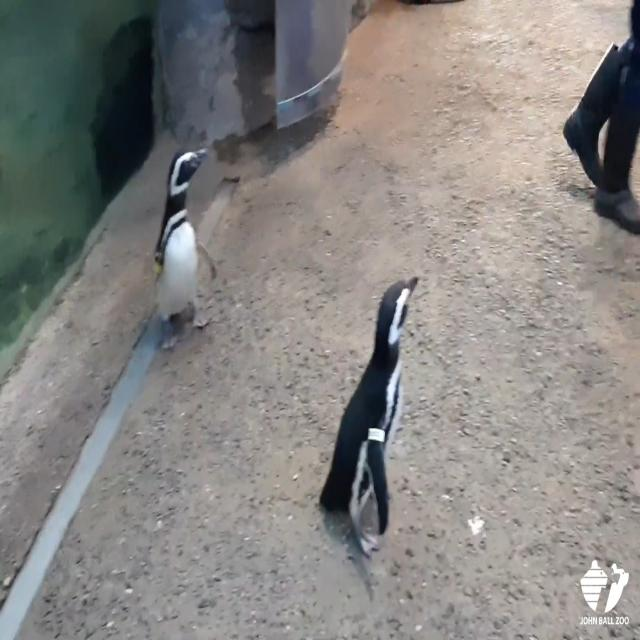penguin: (316, 274, 421, 563), (152, 144, 222, 355)
